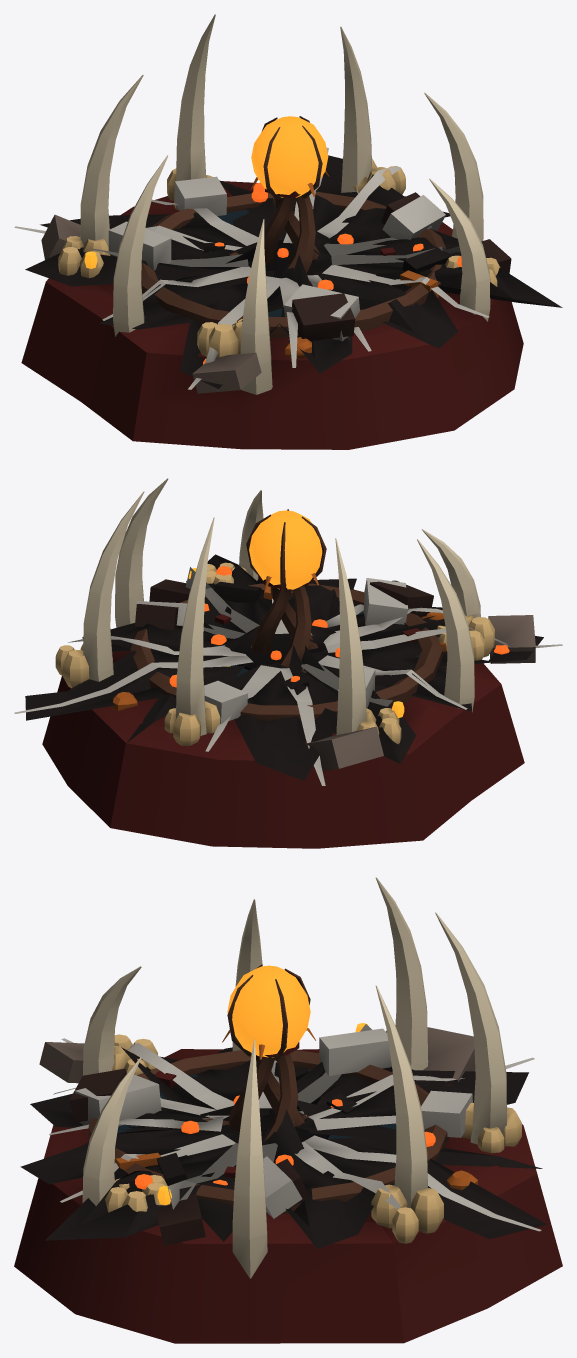
Rendered from spawning-pool-amnion.glb.
The picture shows the model from 3 angles, top to bottom: view 1: azimuth 30°, elevation 25°; view 2: azimuth 150°, elevation 25°; view 3: azimuth 270°, elevation 25°; orthographic projection. The views are drawn at different scales.
Visible parts, largest first — view 1: site_spawning_pool_amnion_body, site_spawning_pool_amnion_ruin, site_spawning_pool_amnion_core; view 2: site_spawning_pool_amnion_body, site_spawning_pool_amnion_ruin, site_spawning_pool_amnion_core; view 3: site_spawning_pool_amnion_body, site_spawning_pool_amnion_ruin, site_spawning_pool_amnion_core.
Boxes of the visible parts, x1=… form: site_spawning_pool_amnion_body: x1=21, y1=14, x2=523, y2=449; site_spawning_pool_amnion_ruin: x1=14, y1=147, x2=562, y2=393; site_spawning_pool_amnion_core: x1=251, y1=116, x2=328, y2=200; site_spawning_pool_amnion_body: x1=42, y1=478, x2=524, y2=848; site_spawning_pool_amnion_ruin: x1=14, y1=554, x2=562, y2=785; site_spawning_pool_amnion_core: x1=246, y1=509, x2=326, y2=593; site_spawning_pool_amnion_body: x1=14, y1=877, x2=562, y2=1343; site_spawning_pool_amnion_ruin: x1=20, y1=1024, x2=546, y2=1248; site_spawning_pool_amnion_core: x1=227, y1=964, x2=310, y2=1061.
Size of the model in its own units: 4.93 by 3.46 by 5.27.
